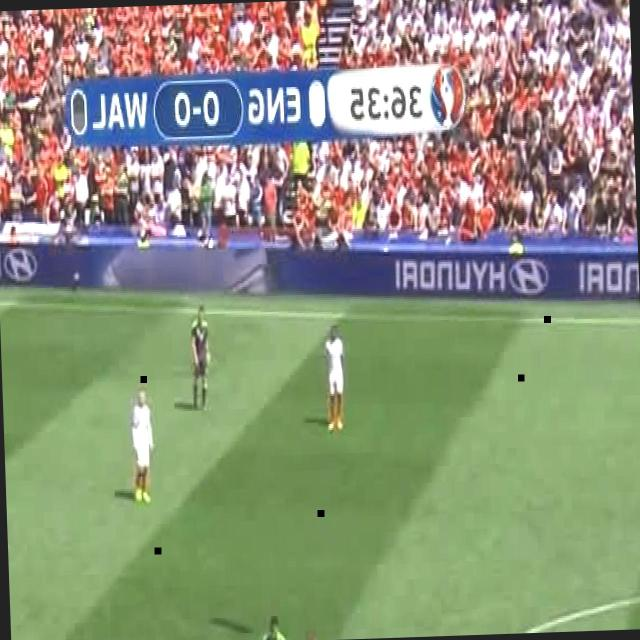player-white: (129, 389, 156, 503), (324, 325, 346, 432), (189, 306, 211, 408), (244, 615, 288, 640)
